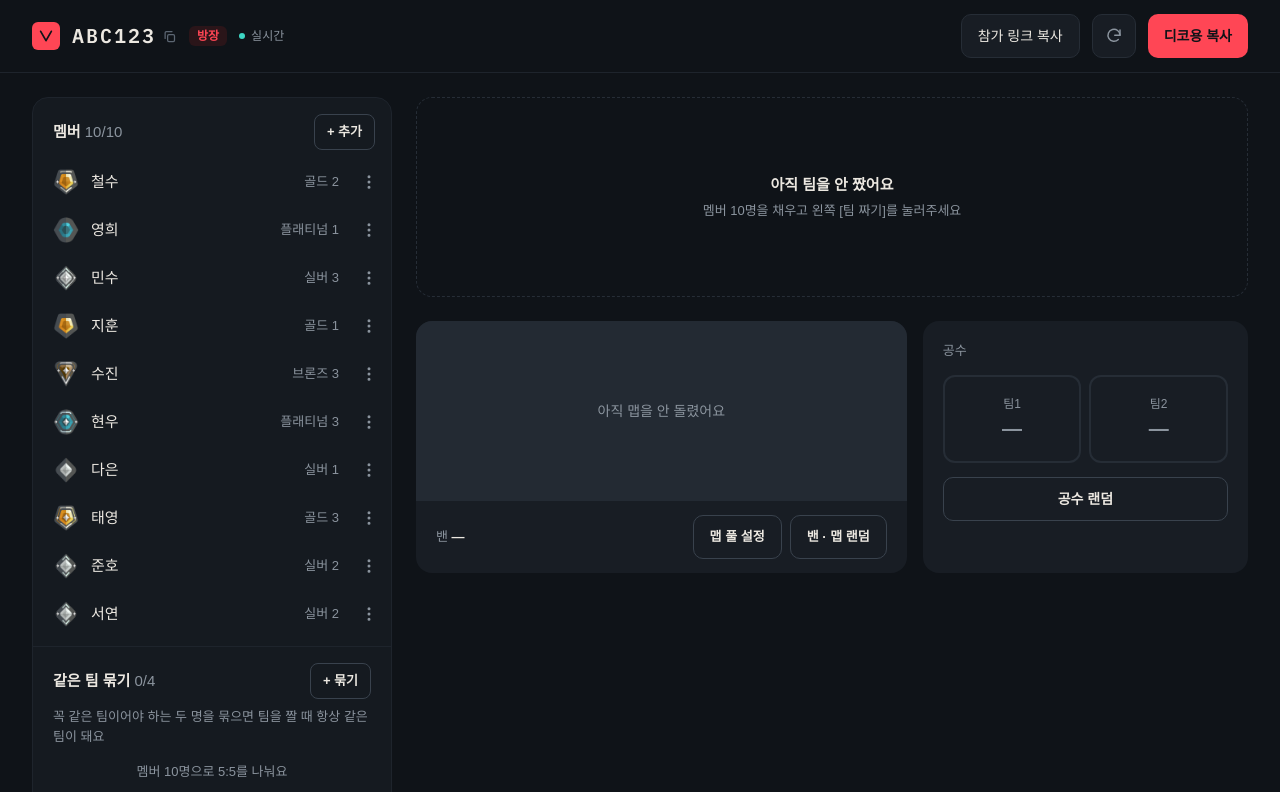
Test case: 방 코드 › 누르면 코드만 복사
The width and height of the screenshot is (1280, 792).
Click the button with aria-label "방 코드 ABC123 복사": (124, 36) [66,20,183,52]
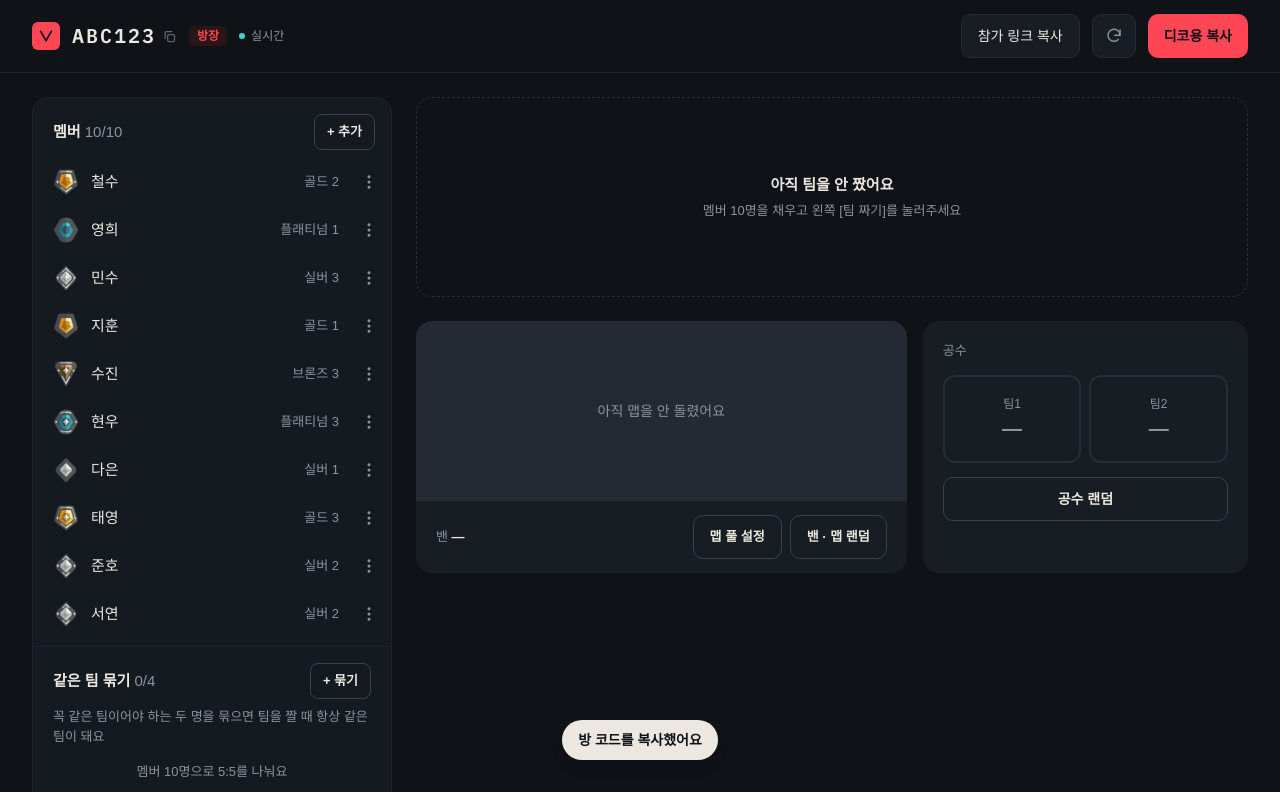
Expected: the text "방 코드를 복사했어요" is shown, [562,720,718,760]
